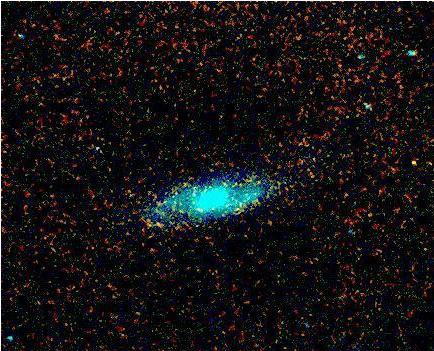star: (398, 146, 428, 176)
